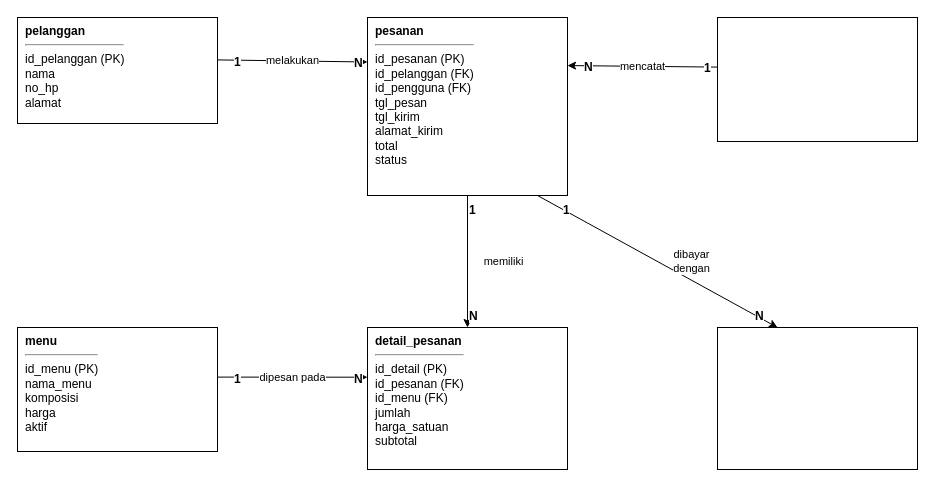
The diagram is 935 pixels wide and 487 high, and some of its shapes have lost their labels. The shapes that lost their labels are listed below. From the top down, each one's centre as x and y in pixels, then its label:
(817,79): pengguna id_pengguna (PK) nama username password peran
(817,398): pembayaran id_bayar (PK) id_pesanan (FK) tgl_bayar jenis metode jumlah
